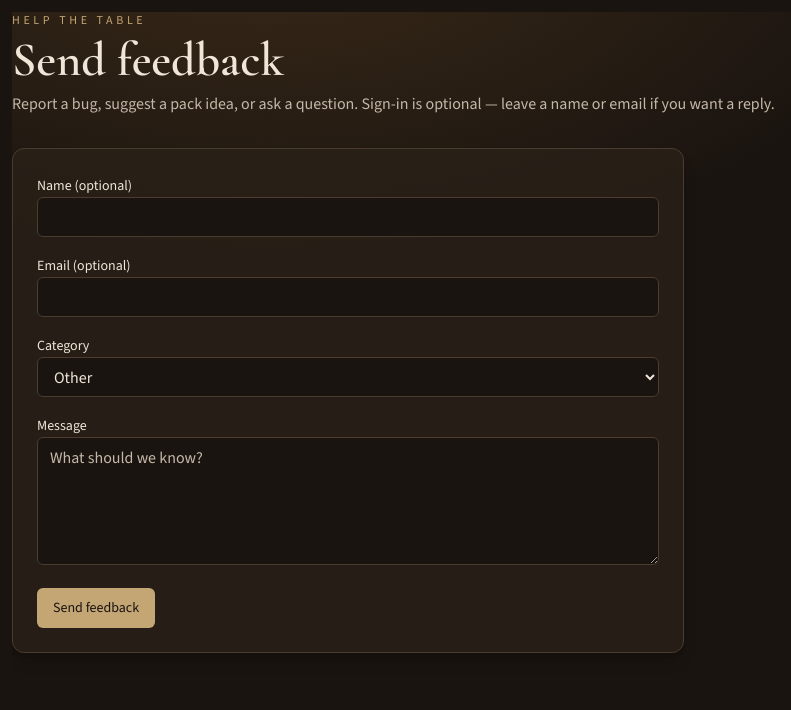
Test: FeedbackPage › submits trimmed form values to the API and shows a success message
This screenshot has width=791, height=710.
Type "Ada" into the field labelled "Name (optional)". click: (348, 217)
box: [37,197,659,237]
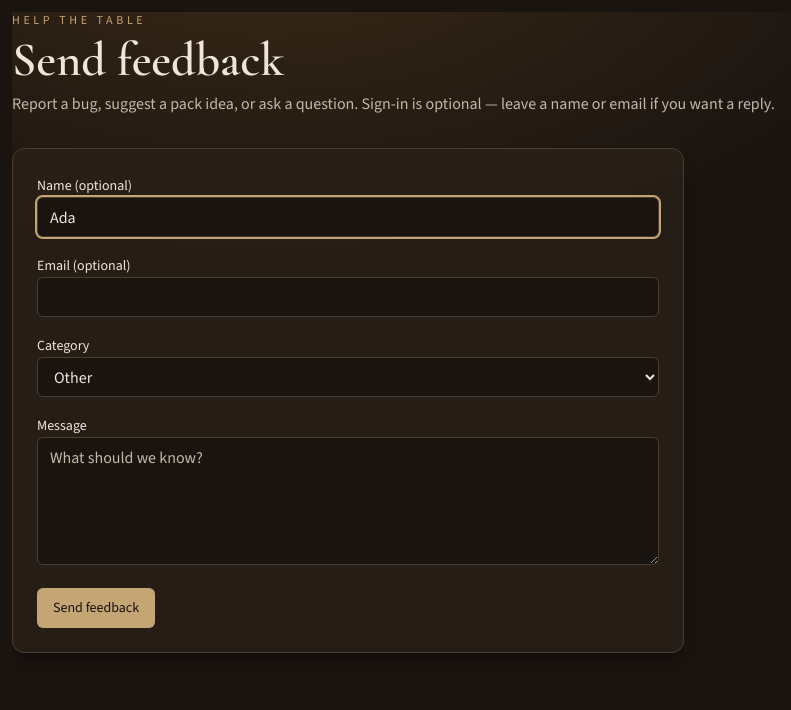
Type "ada@example.com" into the field labelled "Email (optional)". click: (348, 297)
box: [37,277,659,317]
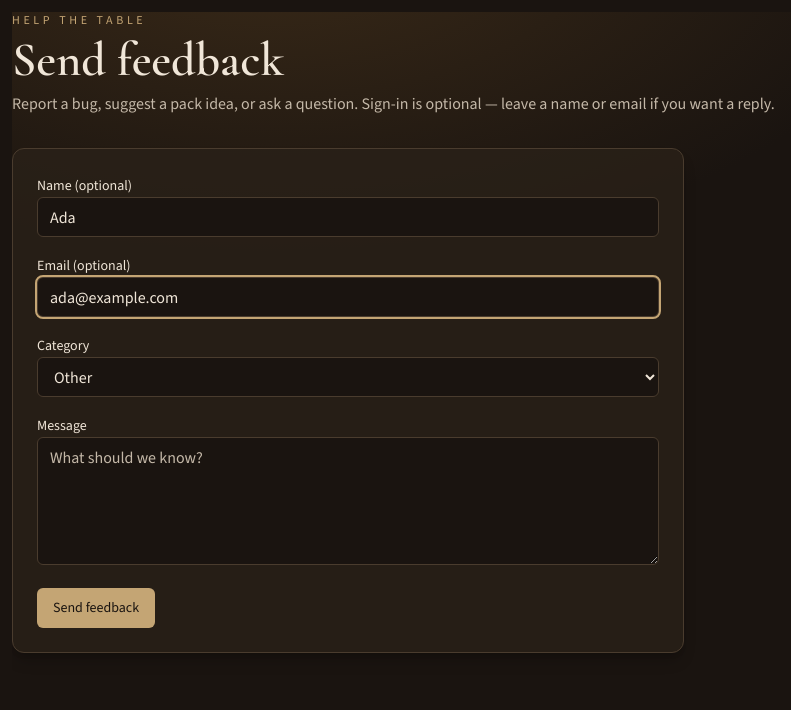
Select "Idea" in the dropdown labelled "Category". click: (348, 377)
box: [37,357,659,397]
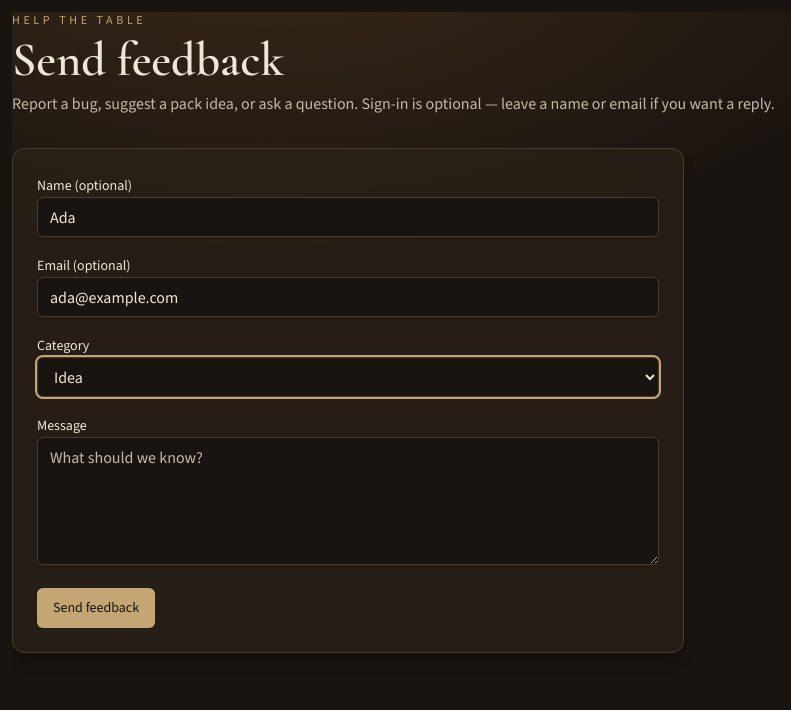
Type "Please add more tavern beds." into the text box labelled "Message". click: (348, 501)
box: [37,437,659,565]
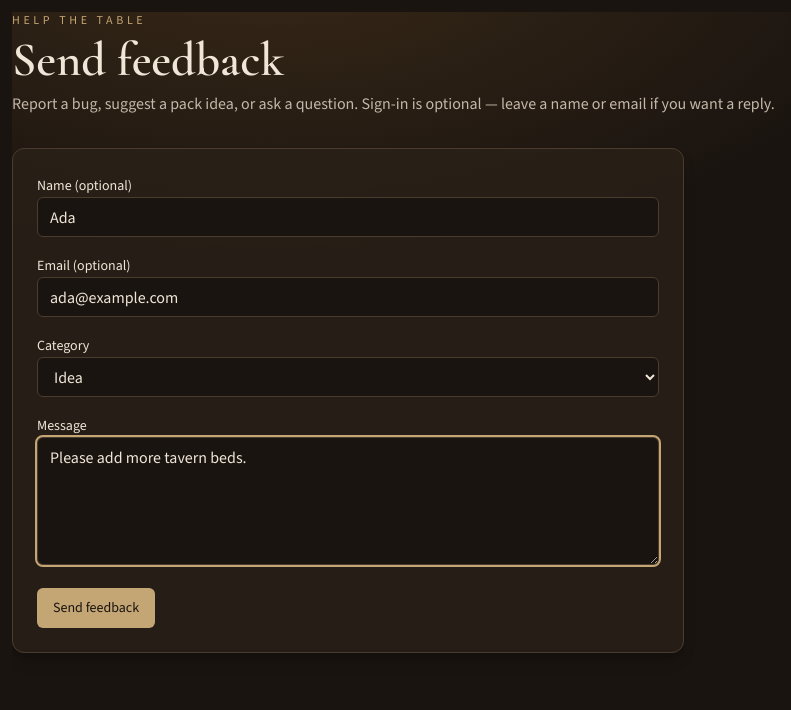
Click the button "Send feedback". click: (96, 608)
box: [37,588,155,628]
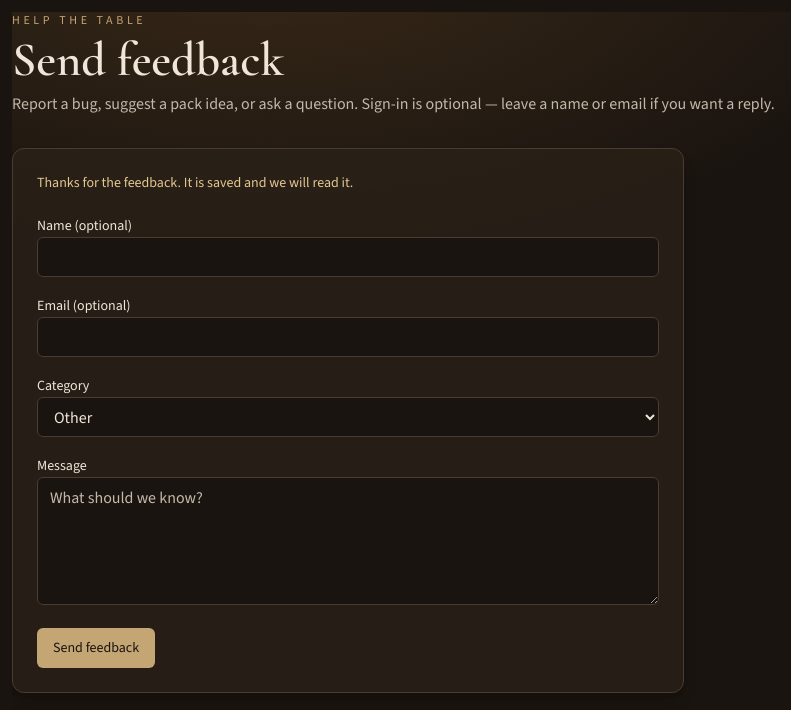
Now the message shows "Thanks for the feedback", box [37,173,353,192]
